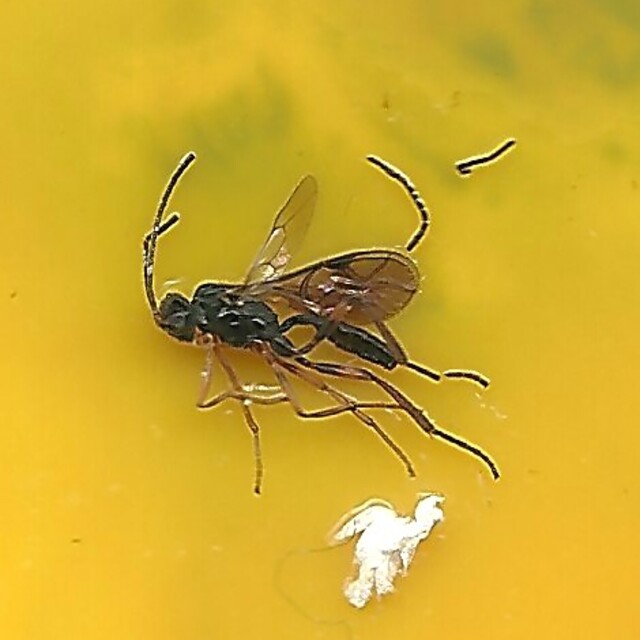Hymenoptera: (136, 147, 504, 493)
